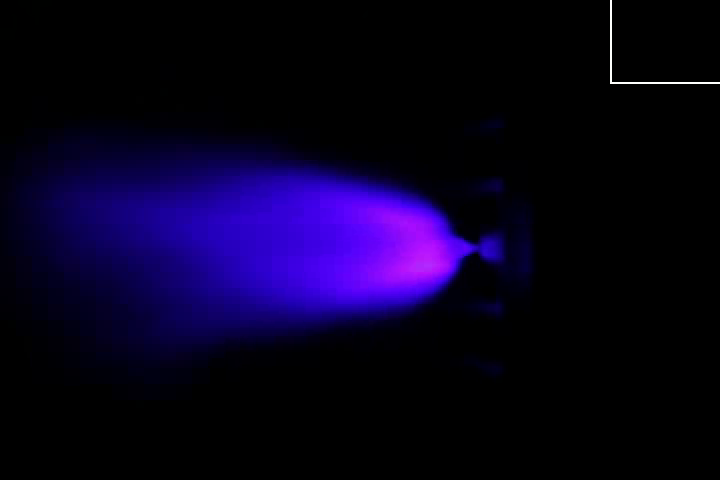burner cap: (476, 231, 505, 266)
unstable: (336, 179, 476, 311)
